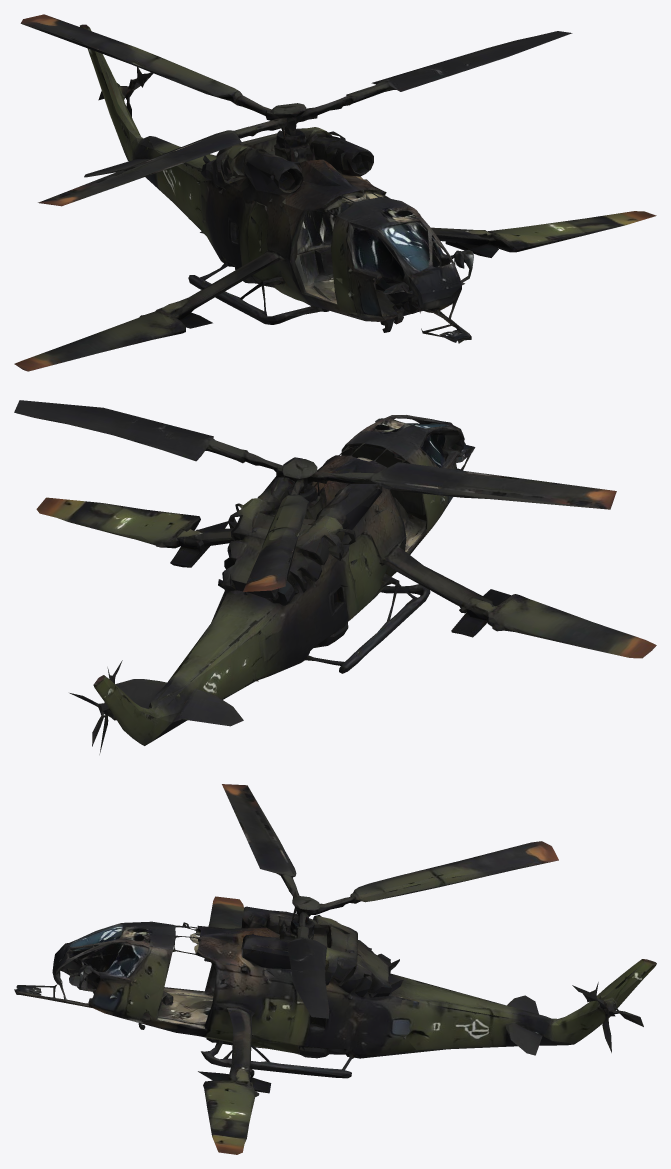
Rendered from heli_wreck.glb.
The picture shows the model from 3 angles, top to bottom: view 1: azimuth 30°, elevation 25°; view 2: azimuth 150°, elevation 25°; view 3: azimuth 270°, elevation 25°; orthographic projection. The views are drawn at different scales.
Visible parts, largest first — view 1: Mesh; view 2: Mesh; view 3: Mesh.
Boxes of the visible parts, bbox=[...] form: Mesh: bbox=[14, 14, 656, 371]; Mesh: bbox=[14, 400, 656, 754]; Mesh: bbox=[14, 784, 656, 1154].
Bounding box in the file's own units: 14.16 × 4.09 × 15.
Materials: 1 (1 with a texture image).
